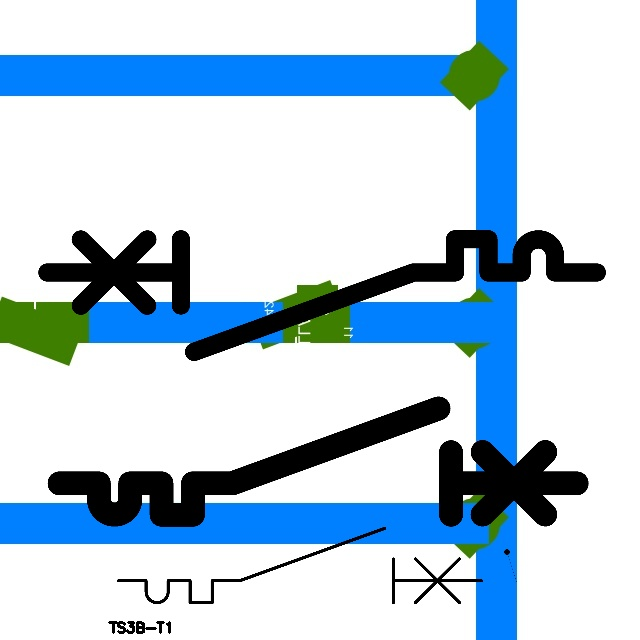interruptor_termomagnetico: (33, 225, 611, 366), (46, 395, 590, 528), (109, 519, 490, 612)
